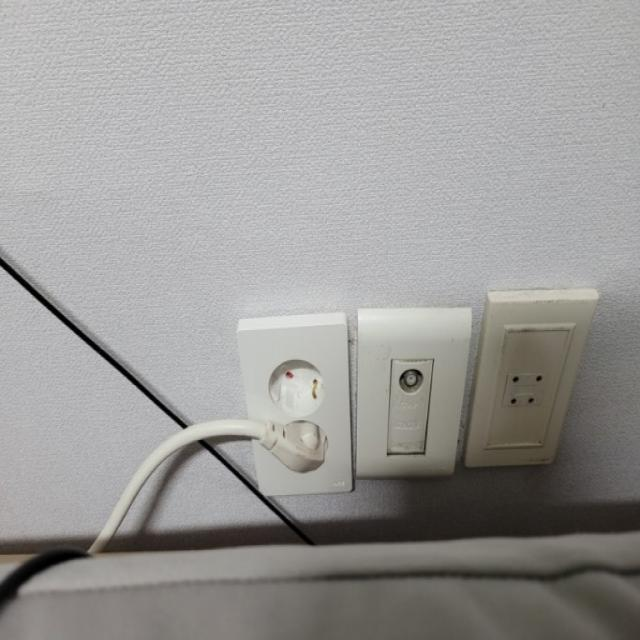typeb: (226, 304, 361, 524)
